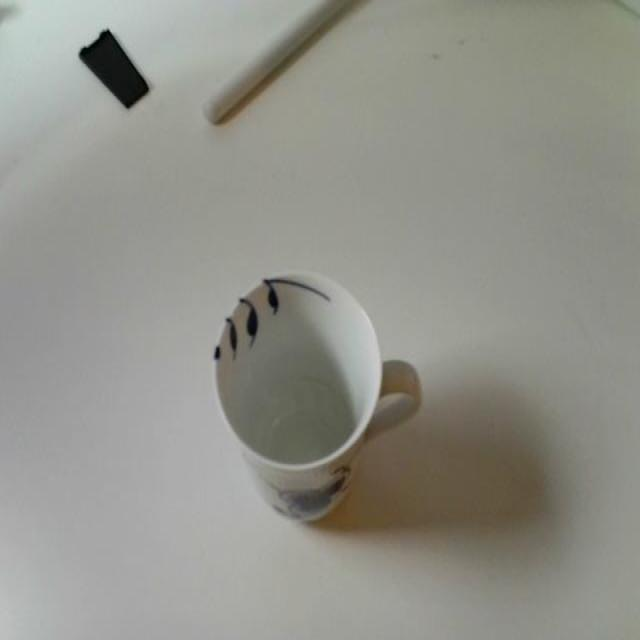cup: (199, 250, 426, 552)
